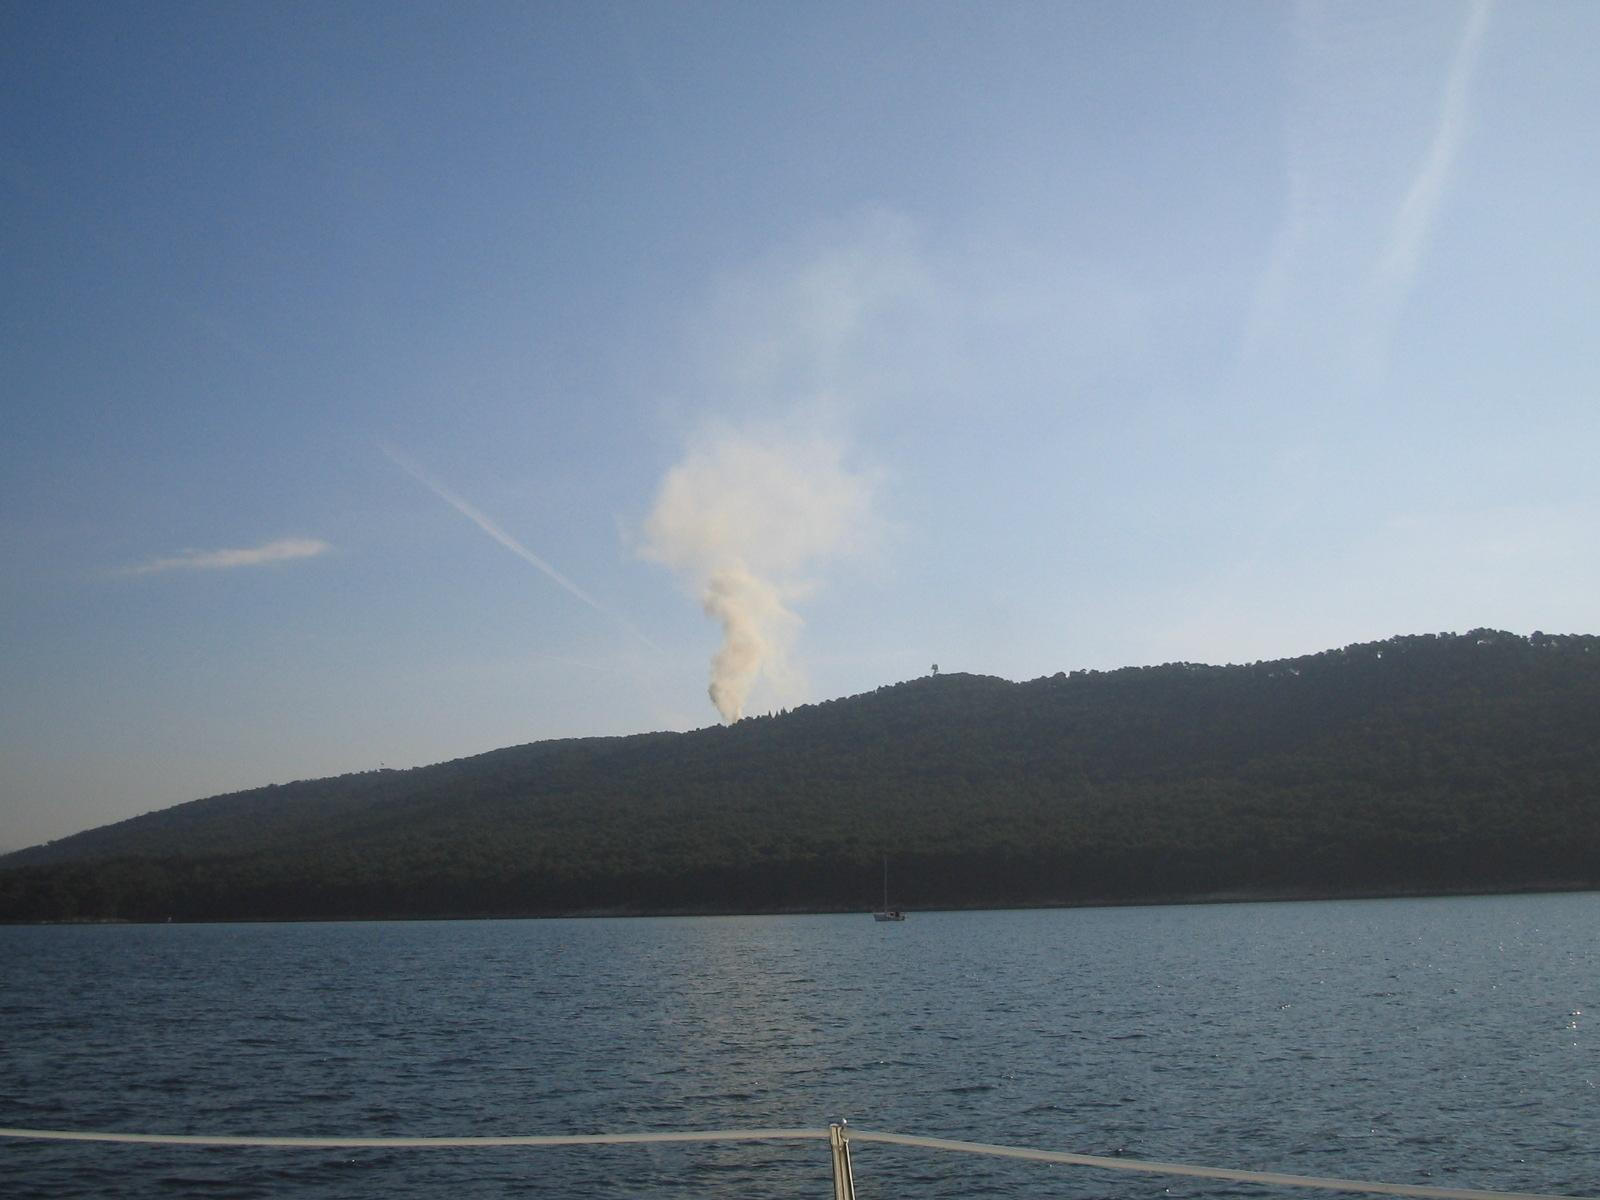Smoke: (637, 255, 834, 731)
